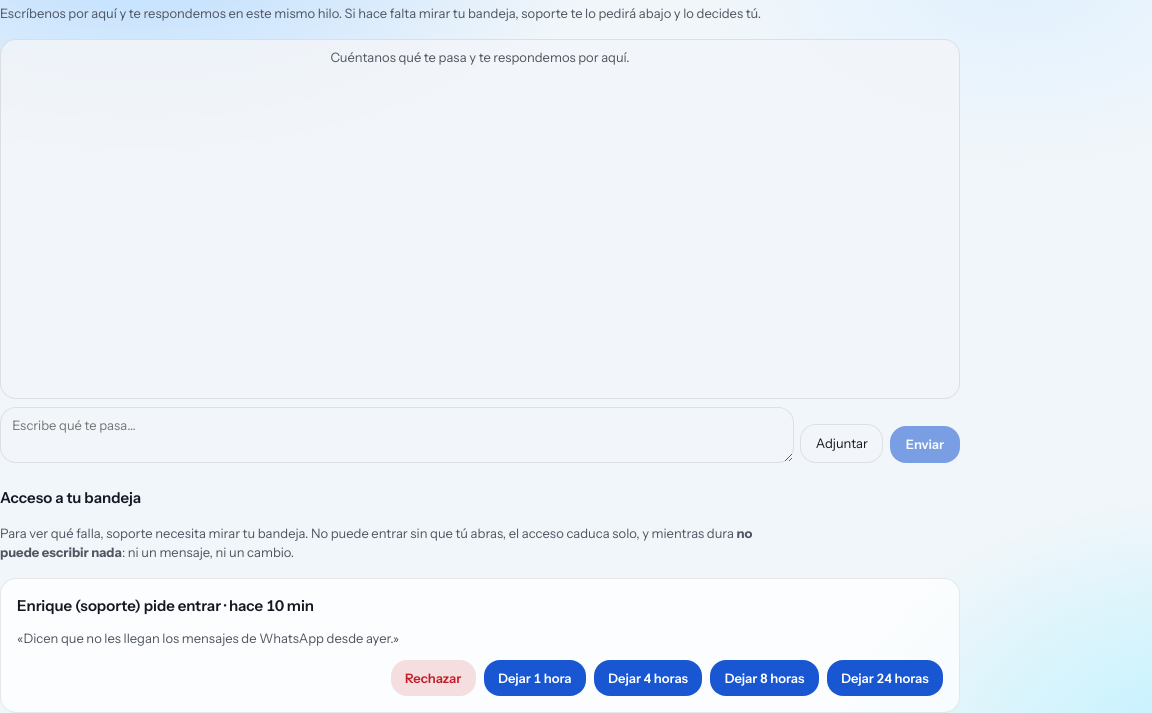
Scenario: Acceso de soporte › si el servidor falla, se dice y no se finge que salió bien
(page scrolled)
Step 1. Click the button "Dejar 1 hora" → (535, 678), box [484,660,586,696]
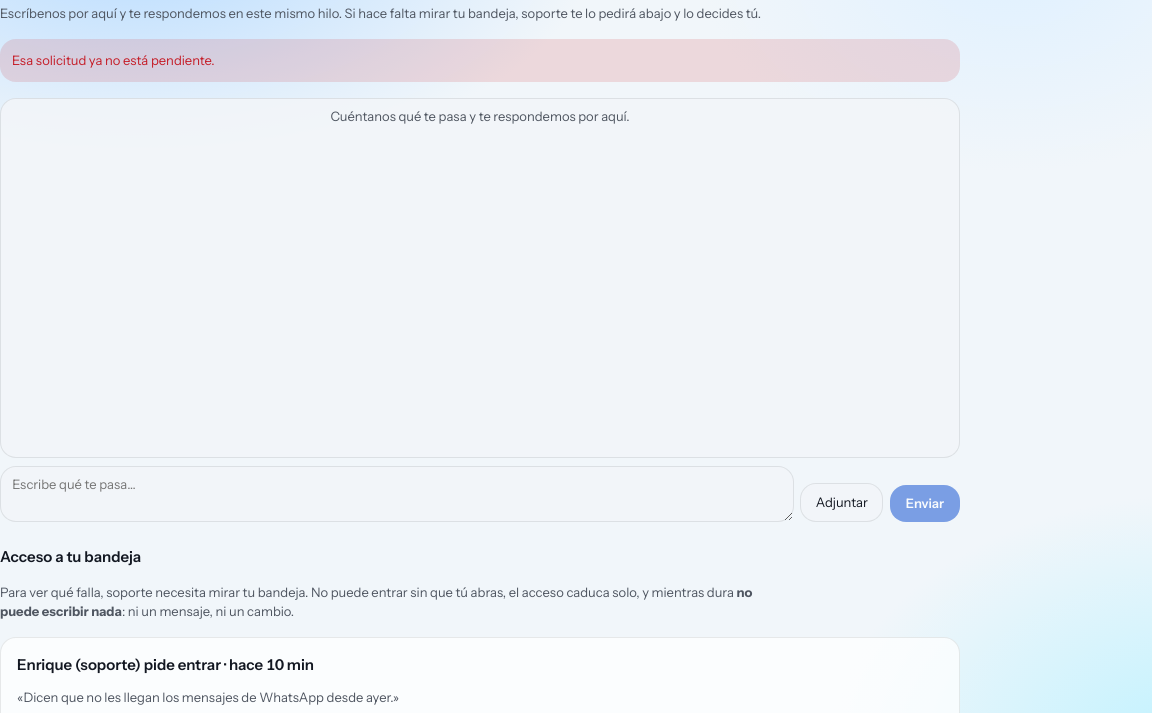
Check: the message shows "ya no está pendiente", box [12,52,215,68]
